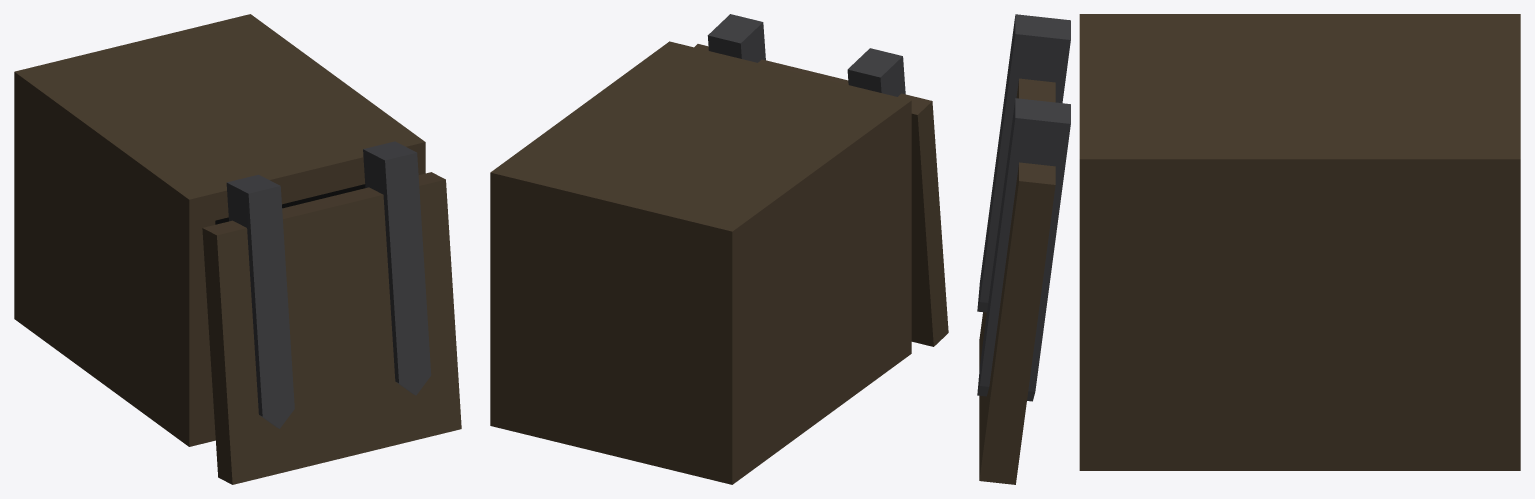
The picture shows the model from 3 angles, left to right: view 1: azimuth 30°, elevation 25°; view 2: azimuth 150°, elevation 25°; view 3: azimuth 270°, elevation 25°; orthographic projection. The views are drawn at different scales.
Visible parts, largest first — view 1: side_box, side_door; view 2: side_box, side_door; view 3: side_box, side_door.
Boxes of the visible parts, <box> form: side_box: <box>14,14,425,446</box>; side_door: <box>202,141,461,484</box>; side_box: <box>490,41,911,484</box>; side_door: <box>694,14,948,346</box>; side_box: <box>1079,14,1520,470</box>; side_door: <box>977,14,1070,484</box>.
Bounding box in the file's own units: 0.0394 × 0.0441 × 0.0623.
2 materials, 1 textured.
